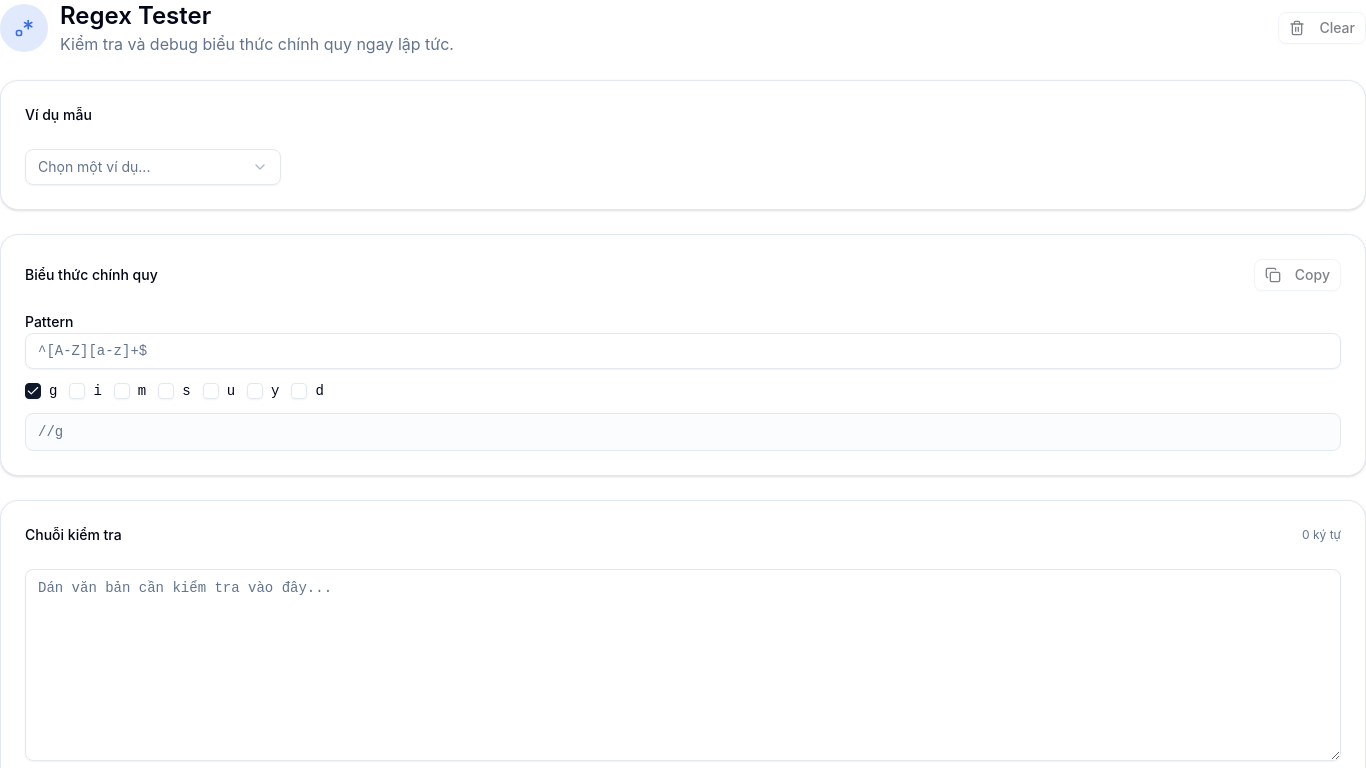
Test case: RegexTesterScreen › enables Clear once a pattern is entered, and clears it after confirming
This screenshot has width=1366, height=768.
Type "abc" into the field labelled "Pattern" at (683, 351), box [25,333,1341,369]
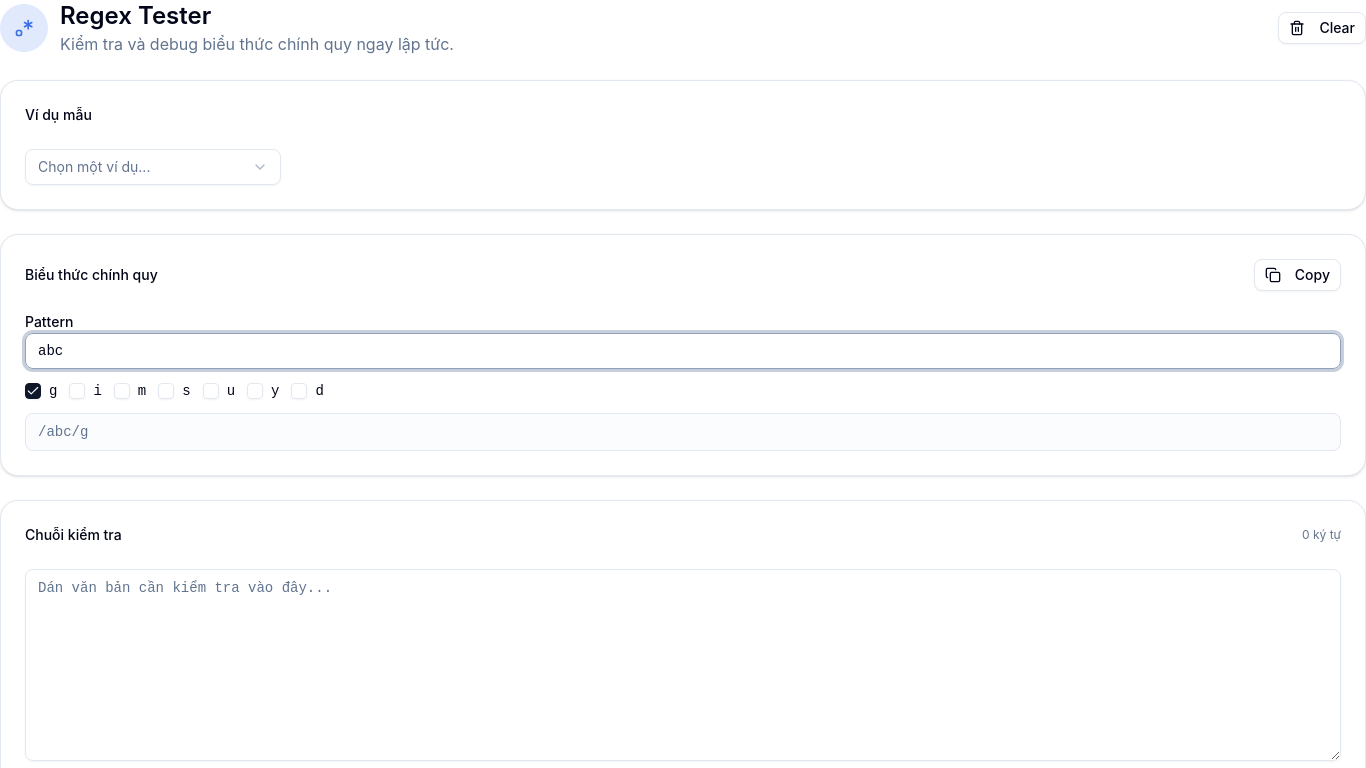
Expected: the button "Clear" is enabled
Click the button "Clear" at (1322, 28), box [1278,12,1365,44]
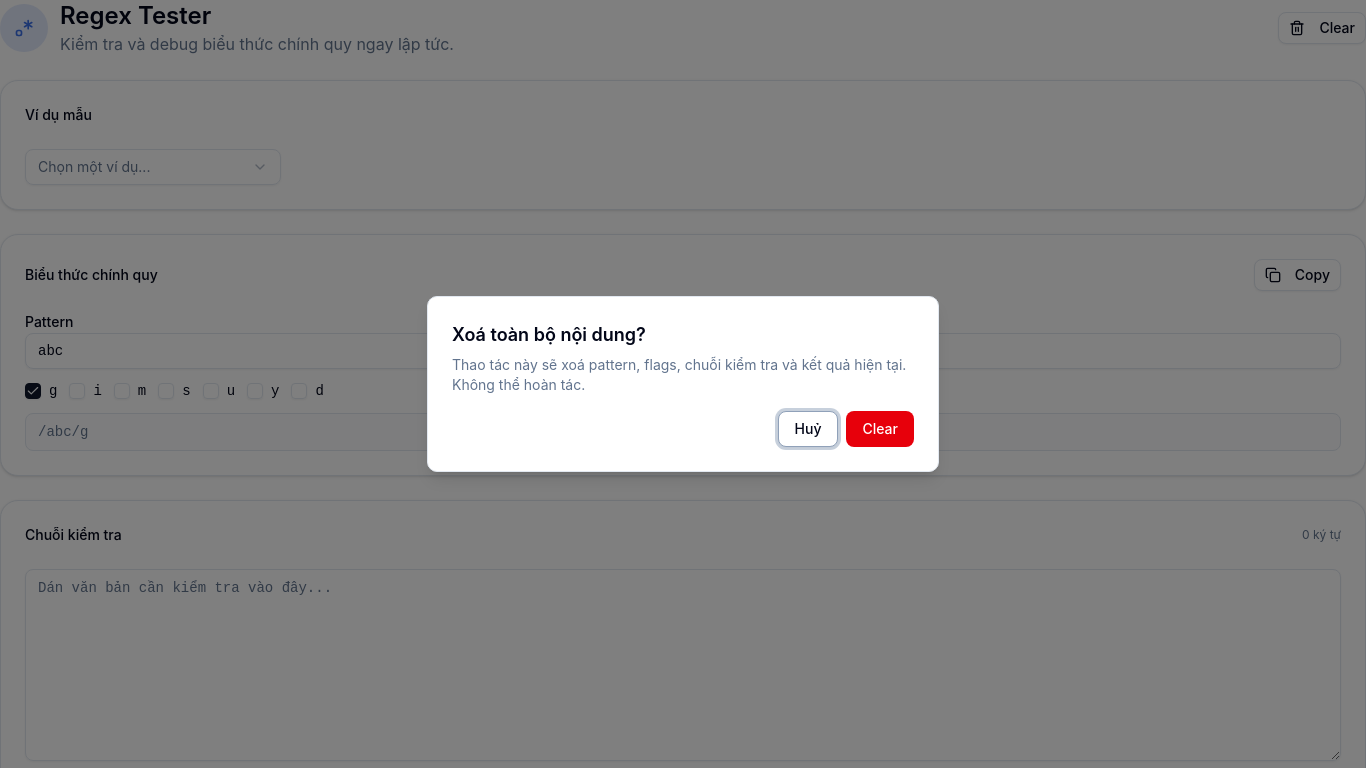
Click the button "Clear" at (880, 429), box [846,411,914,447]
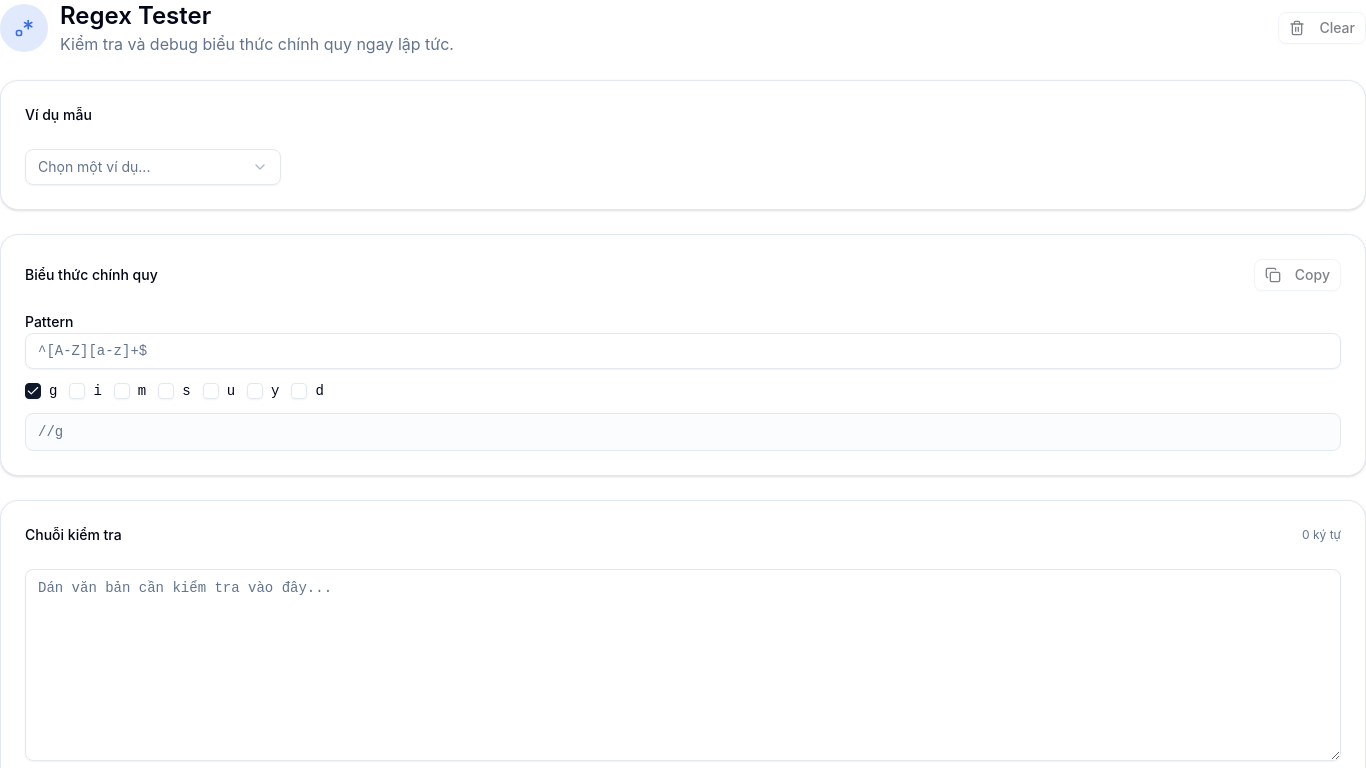
Expected: the field labelled "Pattern" is empty, [25,333,1341,369]
